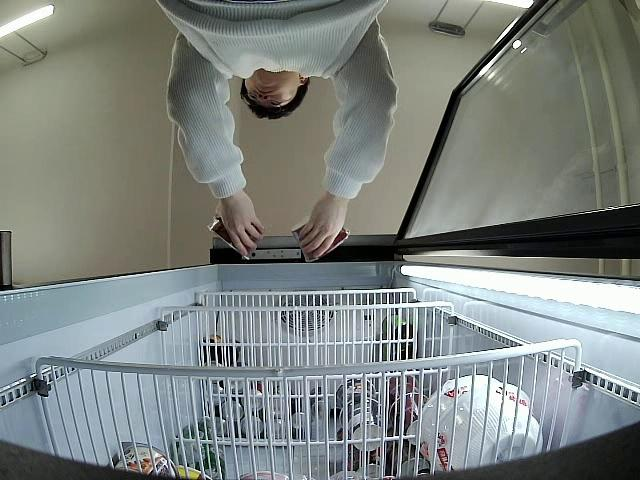00_hand: (299, 198, 347, 259), (214, 201, 264, 255)
05_nuguri_L: (293, 216, 349, 264), (206, 216, 261, 260)
